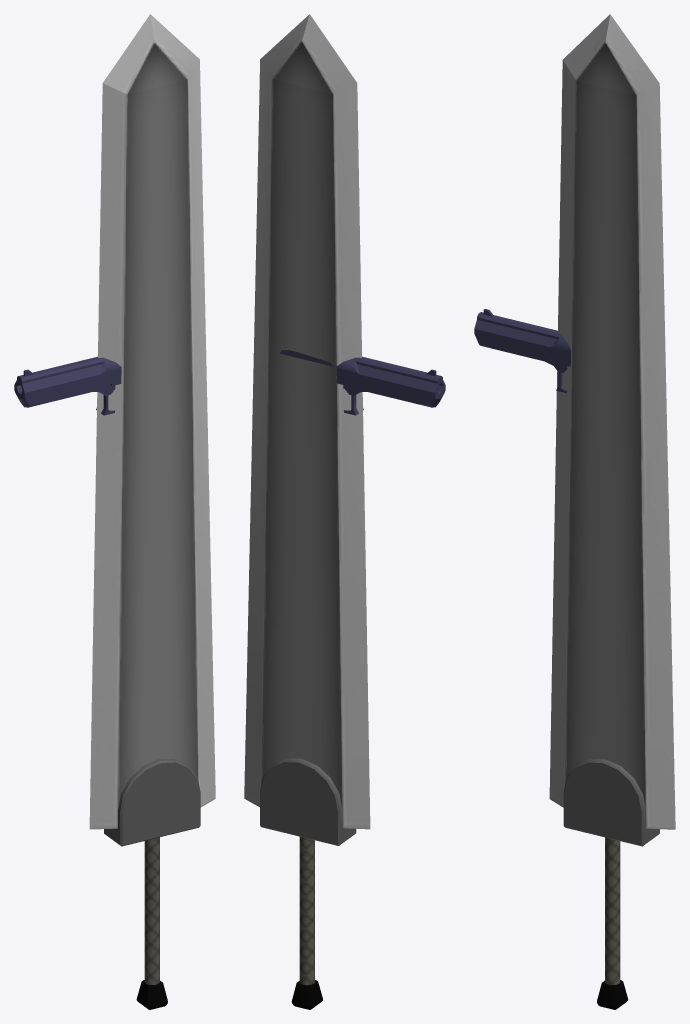
The picture shows the model from 3 angles, left to right: view 1: azimuth 30°, elevation 25°; view 2: azimuth 150°, elevation 25°; view 3: azimuth 330°, elevation 25°; orthographic projection.
Visible parts, largest first — view 1: Sword, Gun; view 2: Sword, Gun; view 3: Sword, Gun.
Boxes of the visible parts, x1=… form: Sword: x1=89, y1=14, x2=215, y2=1009; Gun: x1=14, y1=356, x2=121, y2=415; Sword: x1=244, y1=14, x2=370, y2=1009; Gun: x1=264, y1=350, x2=445, y2=415; Sword: x1=549, y1=14, x2=675, y2=1009; Gun: x1=474, y1=309, x2=570, y2=393.
Size of what is drawn, in the model's own units: 1.03 by 4.95 by 0.1614.
Materials: 5 (1 with a texture image).
